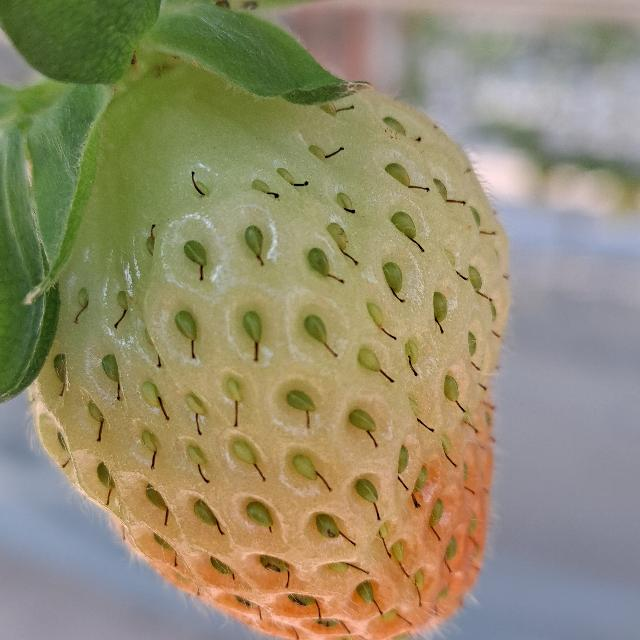Health_50: (27, 62, 511, 640)
